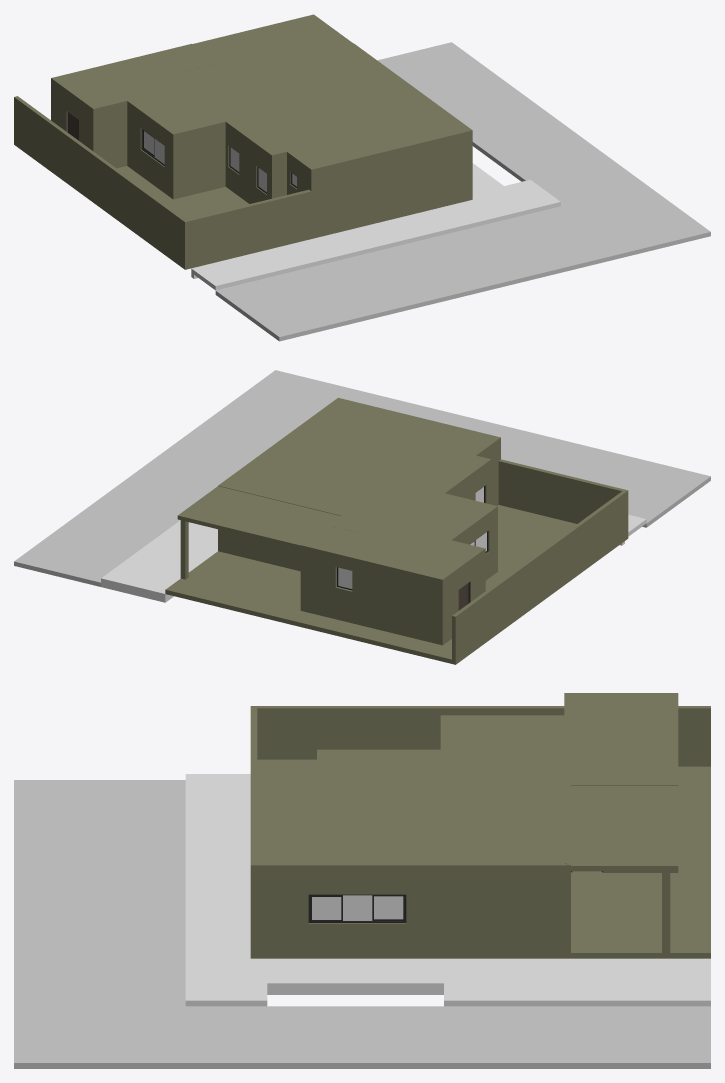
The model's file is house.fbx.
The picture shows the model from 3 angles, top to bottom: view 1: azimuth 30°, elevation 25°; view 2: azimuth 150°, elevation 25°; view 3: azimuth 270°, elevation 25°; orthographic projection. The views are drawn at different scales.
Visible parts, largest first — view 1: Cube.480; view 2: Cube.480; view 3: Cube.480.
Part boxes in pixels (left/top/right/bottom): Cube.480: left=14, top=14, right=710, bottom=341; Cube.480: left=14, top=370, right=710, bottom=664; Cube.480: left=14, top=693, right=710, bottom=1068.
Bounding box in the file's own units: 2333 × 397 × 2392.
